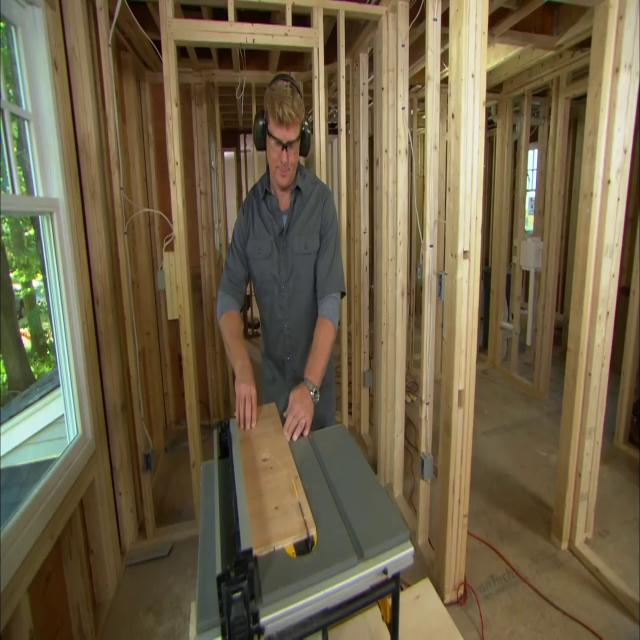earmuff: (250, 106, 269, 156), (297, 118, 312, 166)
glasses: (265, 127, 301, 161)
